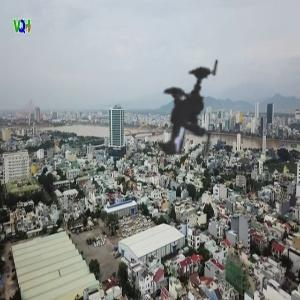drone: (86, 19, 274, 207)
